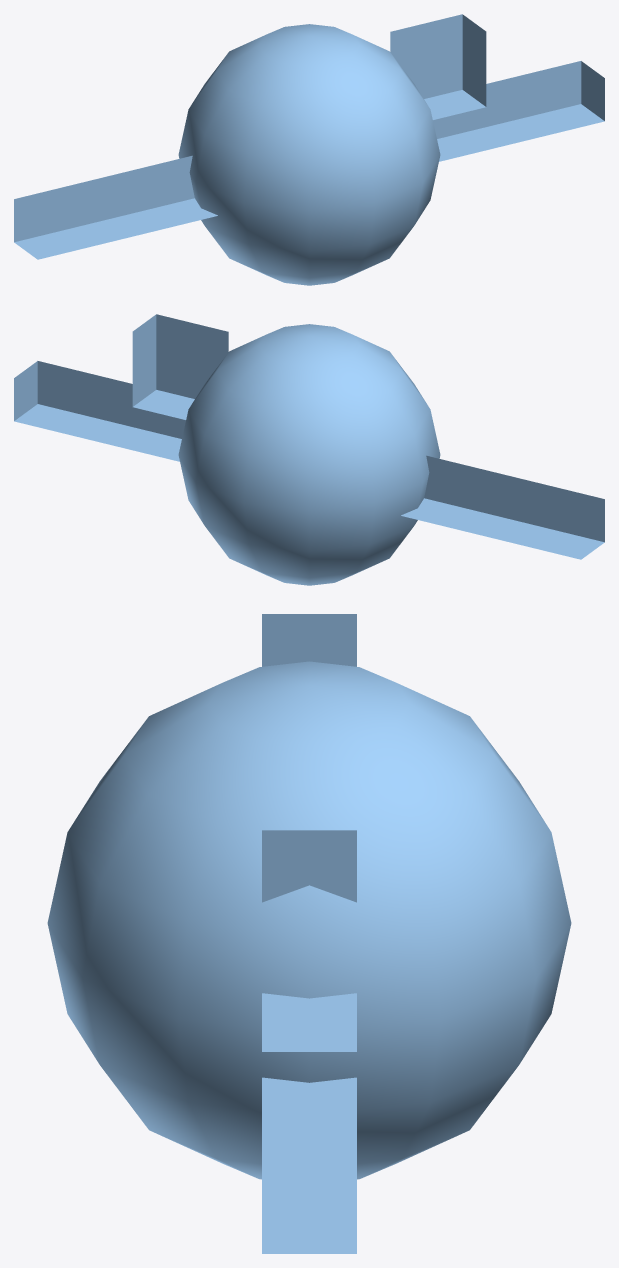
The model's file is ave.glb.
3 views of the same model, one above another, from view 1: azimuth 30°, elevation 25°; view 2: azimuth 150°, elevation 25°; view 3: azimuth 270°, elevation 25° (orthographic). The views are drawn at different scales.
Bounding box in the file's own units: 1.1 × 0.44 × 0.44.
